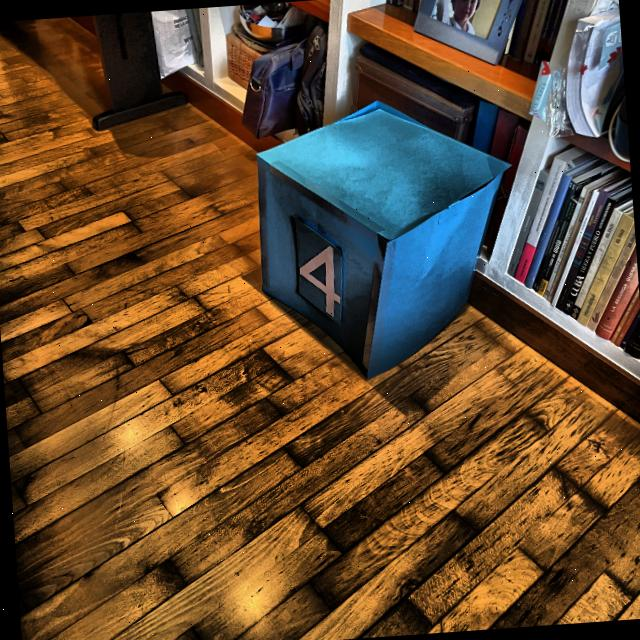blue box: (244, 85, 522, 386)
four: (286, 230, 352, 330)
